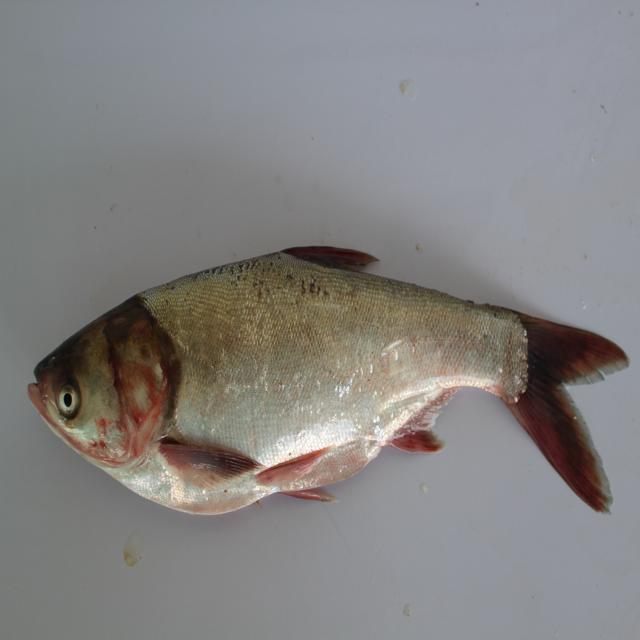SilverCarp: (44, 236, 616, 539)
